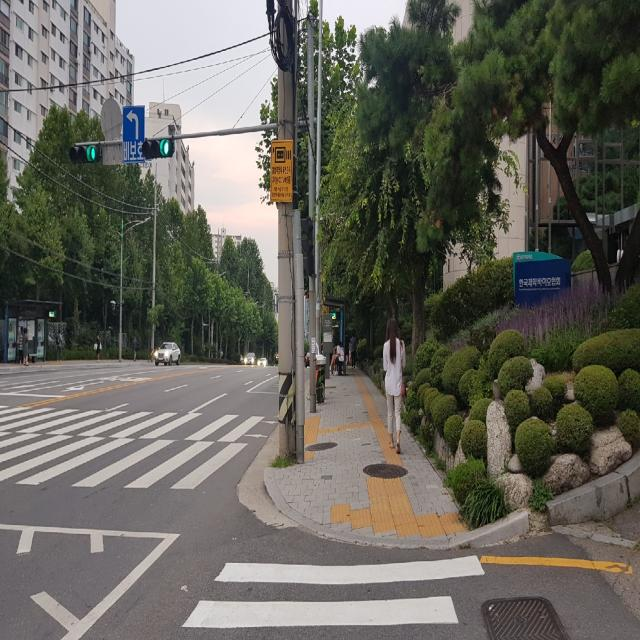횡단보도: (179, 553, 486, 630), (0, 402, 266, 489)
